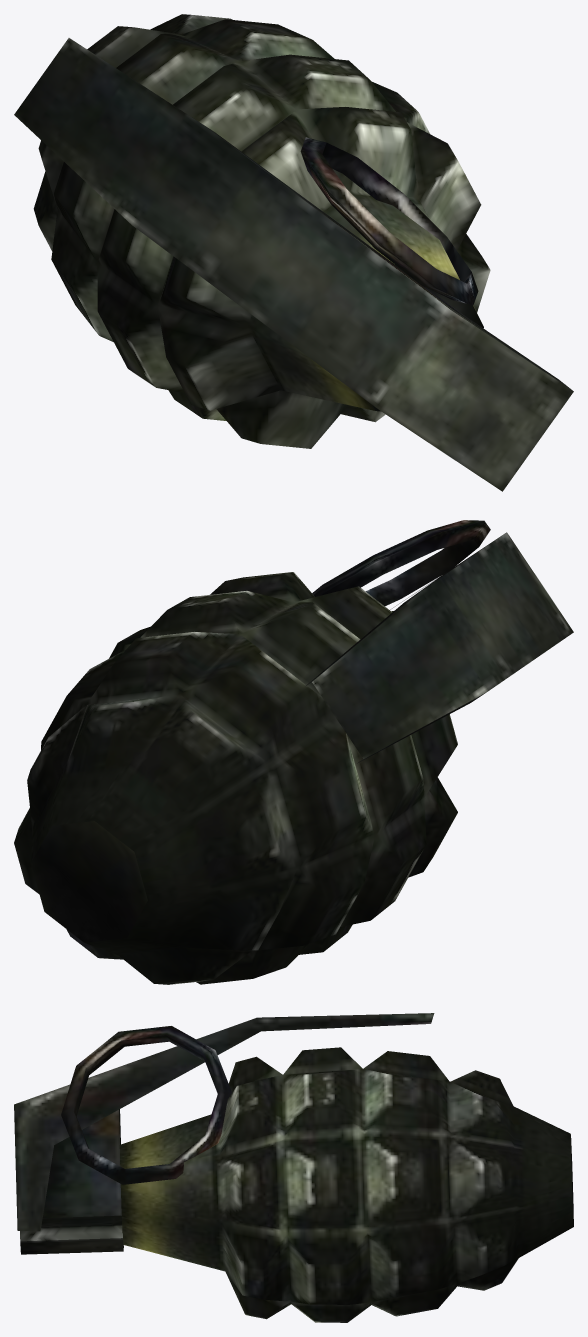
The model's file is weapon_mk2fraggrenade.glb.
3 renders of one model, top to bottom at view 1: azimuth 30°, elevation 25°; view 2: azimuth 150°, elevation 25°; view 3: azimuth 270°, elevation 25°, orthographic. The views are drawn at different scales.
Size of the model in its own units: 3.13 by 2.99 by 5.82.
1 material, 1 textured.
